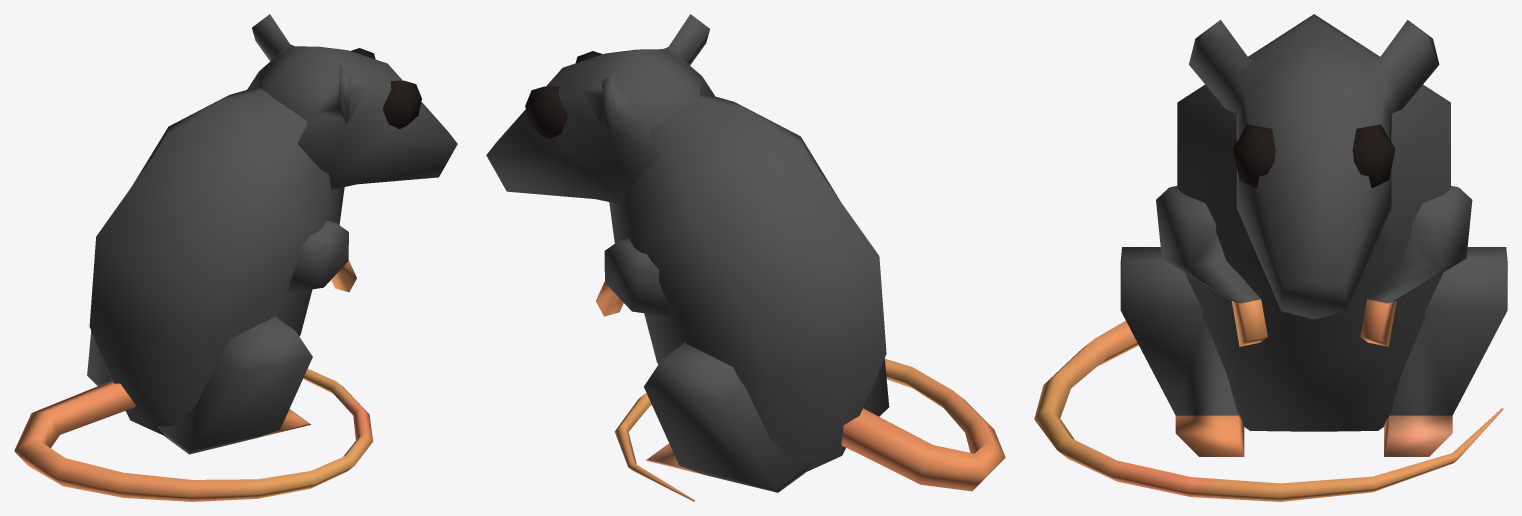
Rendered from TotemAnimalPequeno.fbx.
3 renders of one model, left to right at view 1: azimuth 30°, elevation 25°; view 2: azimuth 150°, elevation 25°; view 3: azimuth 270°, elevation 25°, orthographic. The views are drawn at different scales.
Parts seen in each view (by area): view 1: NurbsPath; view 2: NurbsPath; view 3: NurbsPath.
Boxes of the visible parts, x1=… form: NurbsPath: x1=14, y1=14, x2=457, y2=501; NurbsPath: x1=486, y1=14, x2=1005, y2=501; NurbsPath: x1=1034, y1=14, x2=1507, y2=501.
Size of the model in its own units: 205 by 157 by 142.
